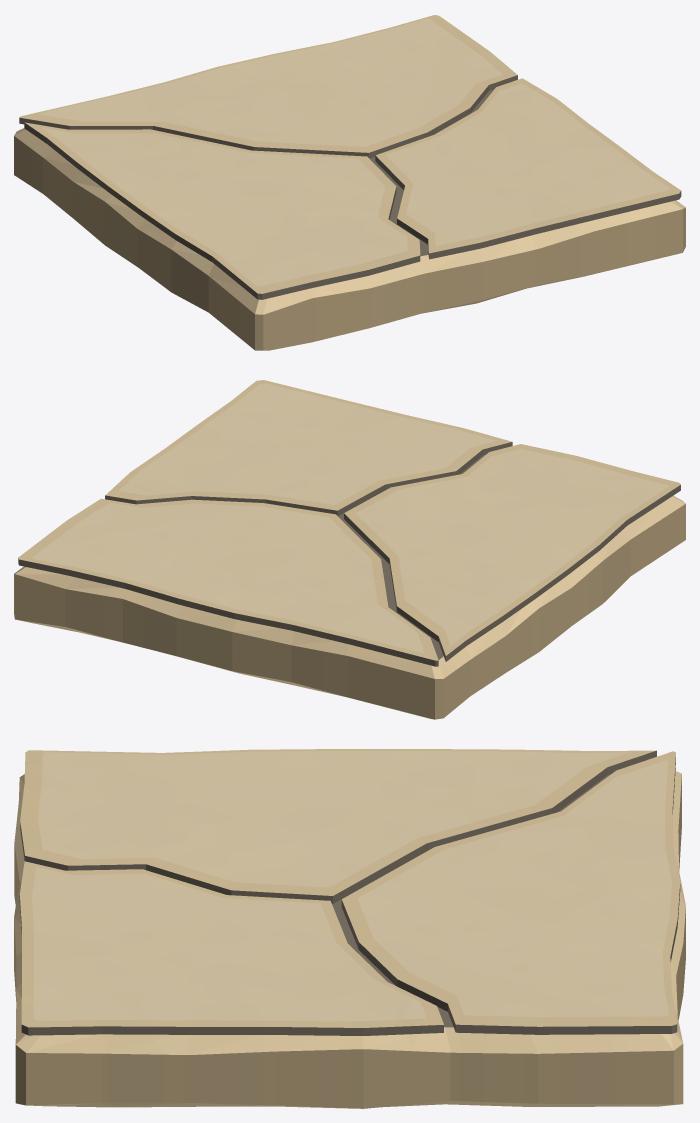
File: tile_a_cracked.glb
3 renders of one model, top to bottom at view 1: azimuth 30°, elevation 25°; view 2: azimuth 150°, elevation 25°; view 3: azimuth 270°, elevation 25°, orthographic. The views are drawn at different scales.
Parts seen in each view (by area): view 1: tile_a_cracked; view 2: tile_a_cracked; view 3: tile_a_cracked.
Boxes of the visible parts, box(x1,y1,x2,y2) form: tile_a_cracked: box(14, 15, 685, 350); tile_a_cracked: box(14, 380, 685, 719); tile_a_cracked: box(14, 749, 685, 1108).
Size of the model in its own units: 2.8 by 0.4 by 2.8.
Materials: 4 (3 with a texture image).
